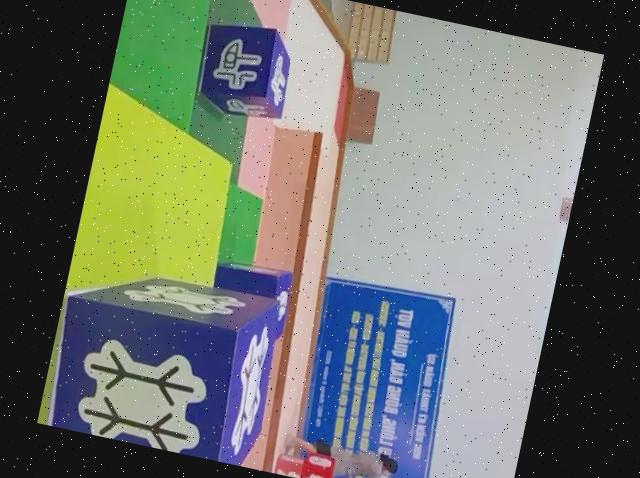R2 Real Blue: (38, 255, 288, 469), (188, 15, 297, 127)
